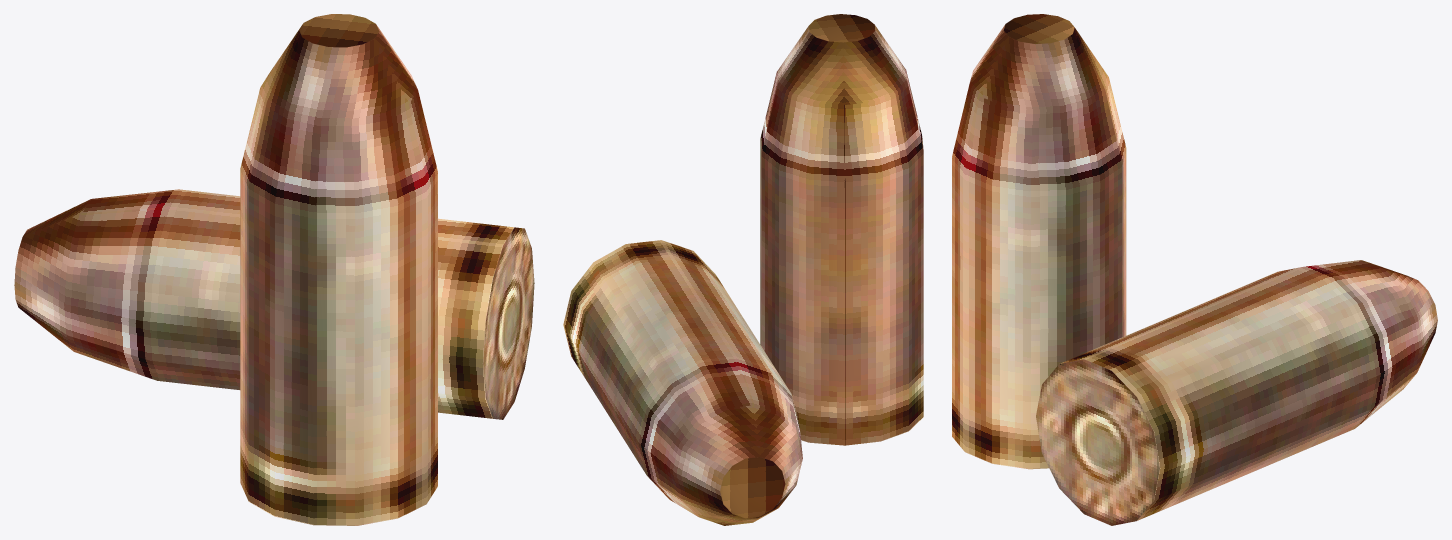
Rendered from ps2_save-icons_nragunclub.glb.
3 views of the same model, side by side, from view 1: azimuth 30°, elevation 25°; view 2: azimuth 150°, elevation 25°; view 3: azimuth 270°, elevation 25° (orthographic). The views are drawn at different scales.
Parts seen in each view (by area): view 1: list.ico; view 2: list.ico; view 3: list.ico.
Boxes of the visible parts, x1,y1,x2,y2 form: list.ico: [14, 14, 534, 525]; list.ico: [563, 14, 923, 525]; list.ico: [952, 14, 1437, 525].
Bounding box in the file's own units: 3.44 × 3.81 × 4.15.
Materials: 1 (1 with a texture image).
